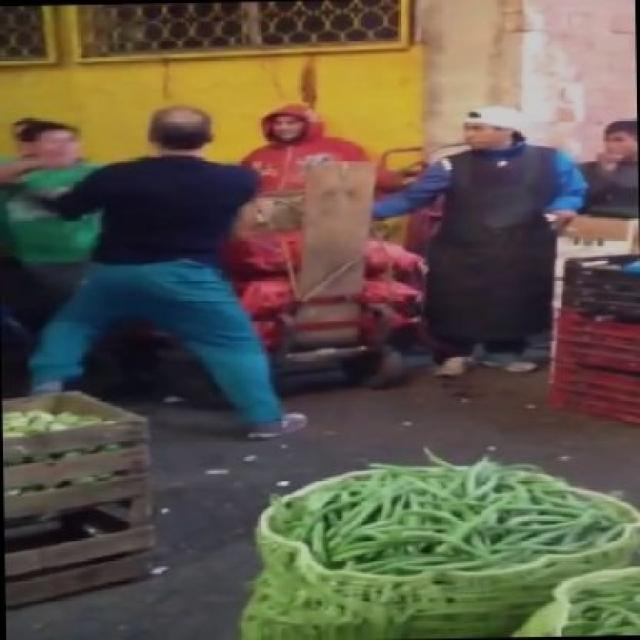fight: (0, 100, 312, 443)
non-fight: (373, 105, 585, 377)
